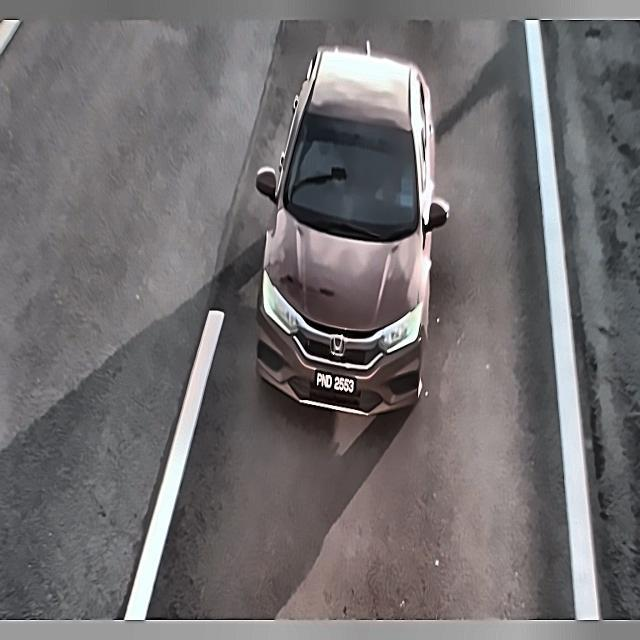car: (311, 368, 364, 400)
